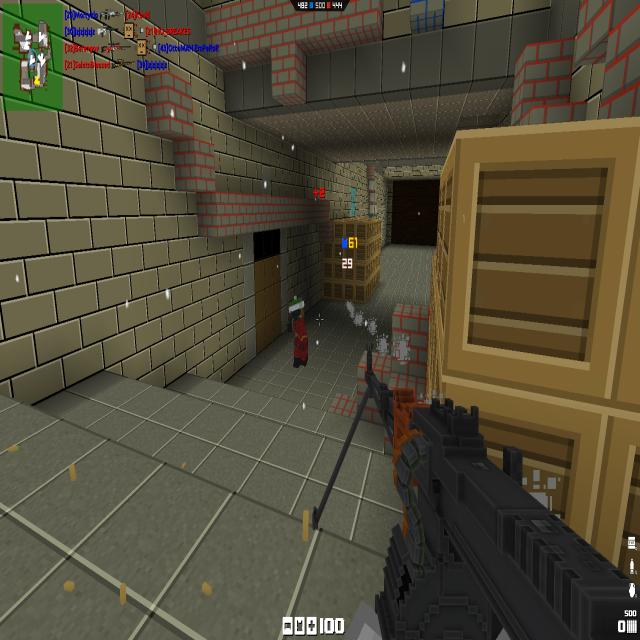player: (289, 294, 309, 368)
